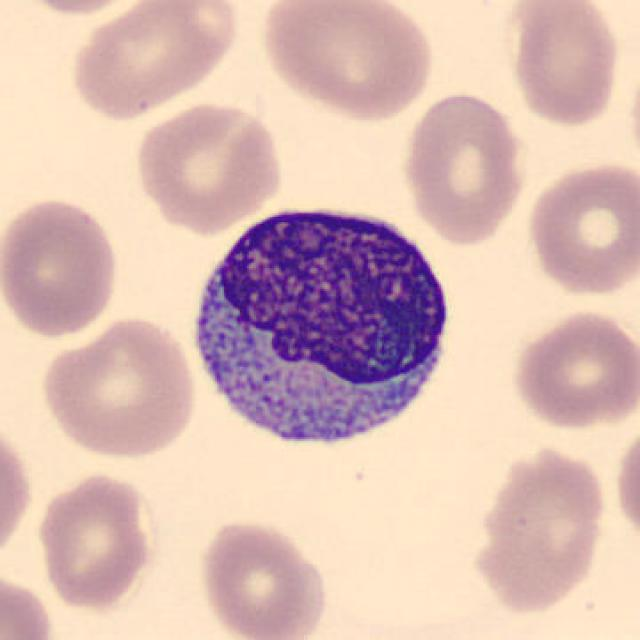Monocyte: (181, 198, 464, 471)
RBC: (35, 312, 201, 462), (469, 441, 612, 615), (255, 0, 438, 125), (66, 0, 242, 123), (398, 88, 530, 247), (130, 99, 286, 232), (32, 467, 158, 614), (0, 194, 123, 340), (194, 515, 330, 640), (507, 306, 638, 434), (523, 157, 638, 300), (505, 0, 624, 130), (0, 413, 36, 571), (0, 569, 59, 640), (611, 418, 640, 550), (5, 0, 156, 18)
